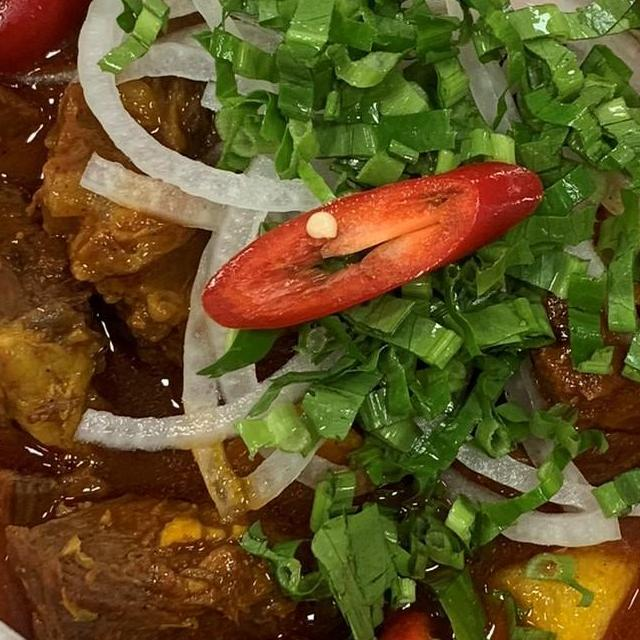thit bo: (0, 440, 312, 640), (0, 162, 132, 492)
